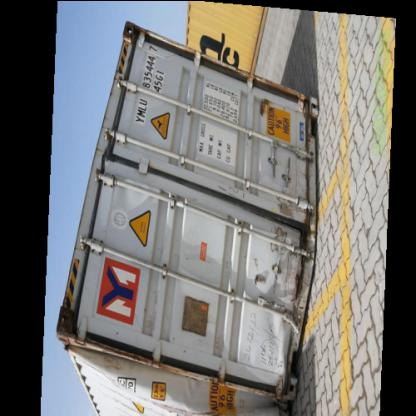Damage: (67, 333, 288, 415), (250, 216, 316, 308), (102, 158, 158, 224)
